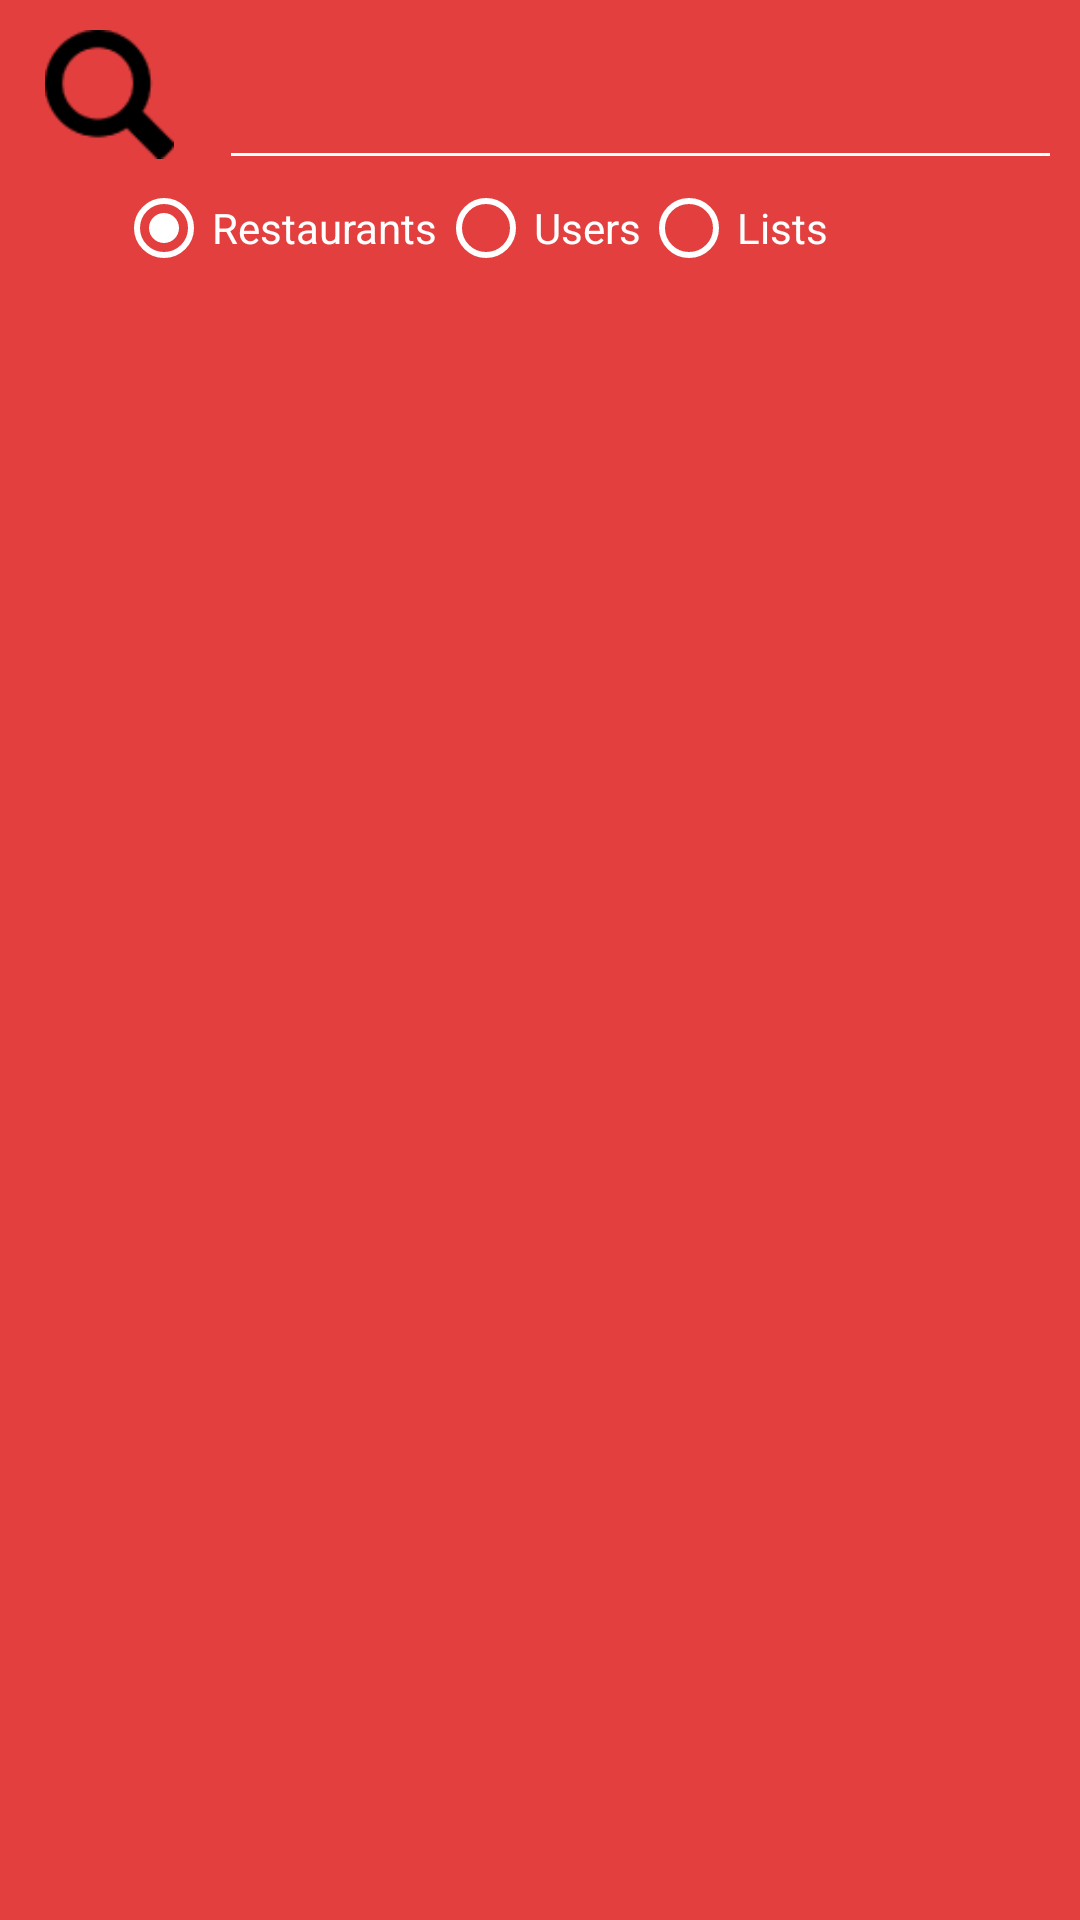

Locate icon controls on the screen. Image size 1080*1920, boxes as region(x1, y1, x2, y2).
search: region(45, 30, 174, 159)
